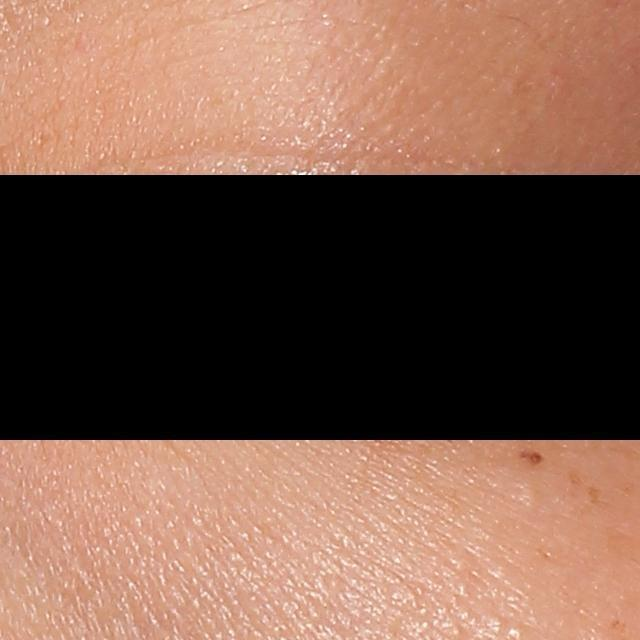melasma: (564, 461, 585, 489), (587, 483, 609, 508)
nevus: (516, 448, 549, 470)
